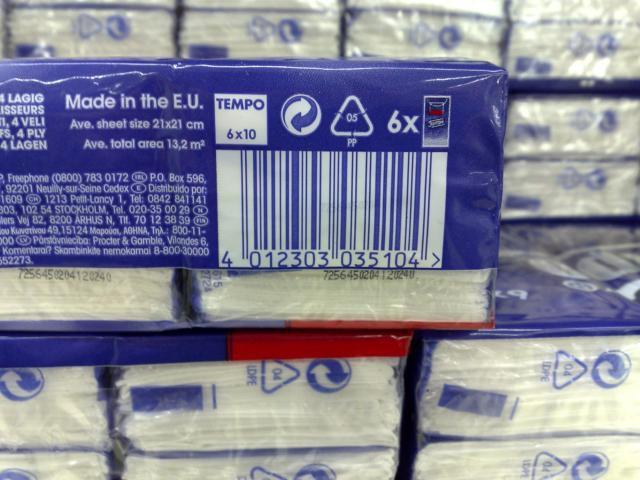Barcode: (218, 149, 437, 272)
